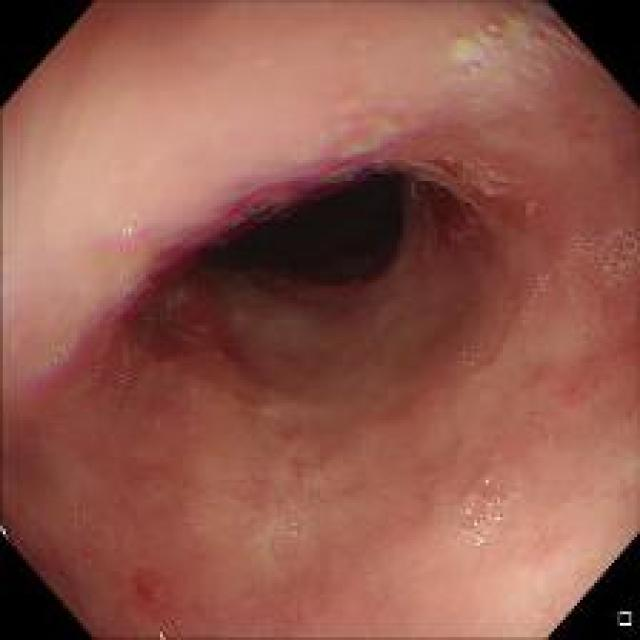bubbles: (460, 470, 522, 548), (601, 216, 639, 282), (31, 335, 78, 372), (64, 491, 88, 530), (569, 234, 598, 261), (450, 346, 482, 368), (281, 514, 306, 541), (530, 265, 551, 294), (109, 364, 128, 391), (88, 350, 104, 382), (519, 298, 538, 324), (140, 309, 158, 335)
color misalignment: (228, 146, 436, 225), (145, 225, 232, 279), (529, 11, 585, 64), (470, 16, 506, 45), (450, 54, 488, 81), (116, 220, 140, 251)
contrast: (182, 166, 444, 314)
specularity: (0, 520, 18, 550), (150, 622, 179, 638)
